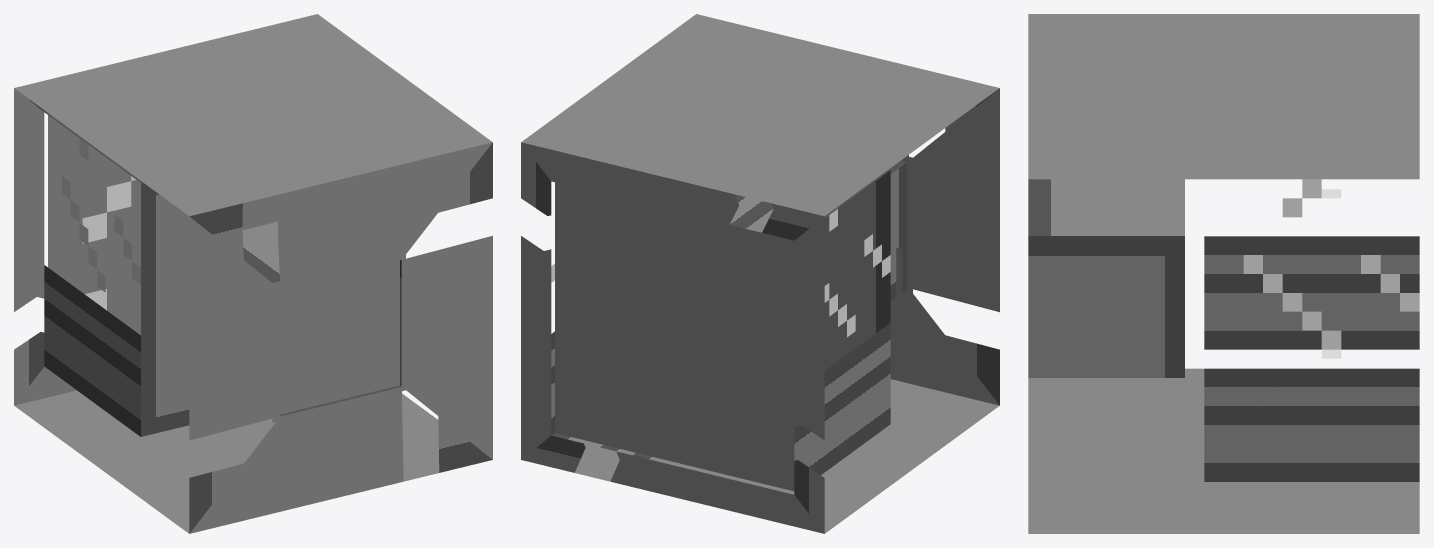
Rendered from injector.obj.
3 renders of one model, left to right at view 1: azimuth 30°, elevation 25°; view 2: azimuth 150°, elevation 25°; view 3: azimuth 270°, elevation 25°, orthographic. The views are drawn at different scales.
Visible parts, largest first — view 1: injector_Cube.001; view 2: injector_Cube.001; view 3: injector_Cube.001.
Boxes of the visible parts, x1=… form: injector_Cube.001: x1=14, y1=14, x2=492, y2=533; injector_Cube.001: x1=521, y1=14, x2=999, y2=533; injector_Cube.001: x1=1028, y1=14, x2=1419, y2=533.
Bounding box in the file's own units: 1 × 1 × 1.
